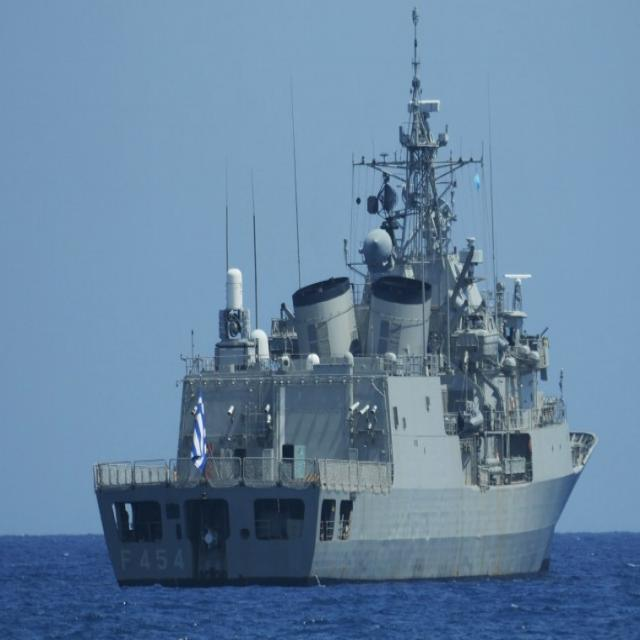Fragata: (93, 1, 603, 598)
